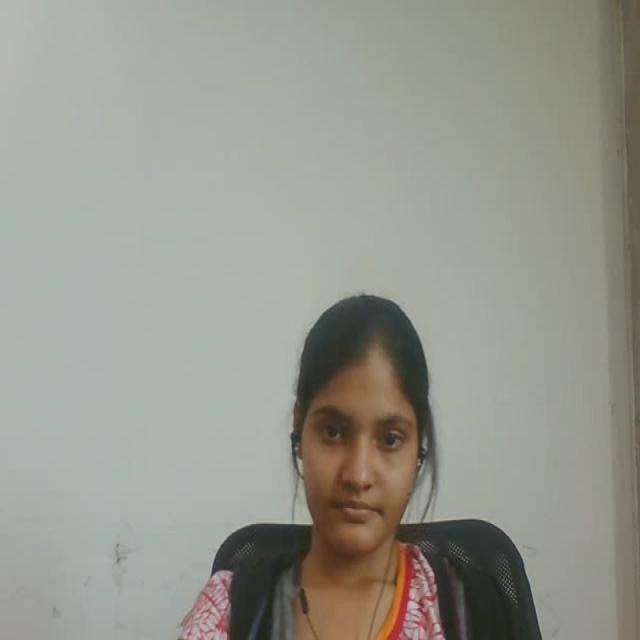Engaged: (281, 277, 448, 582)
